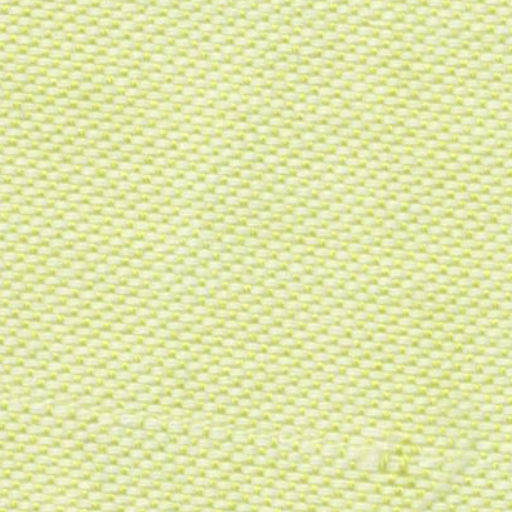DuanSha: (346, 430, 438, 486)
